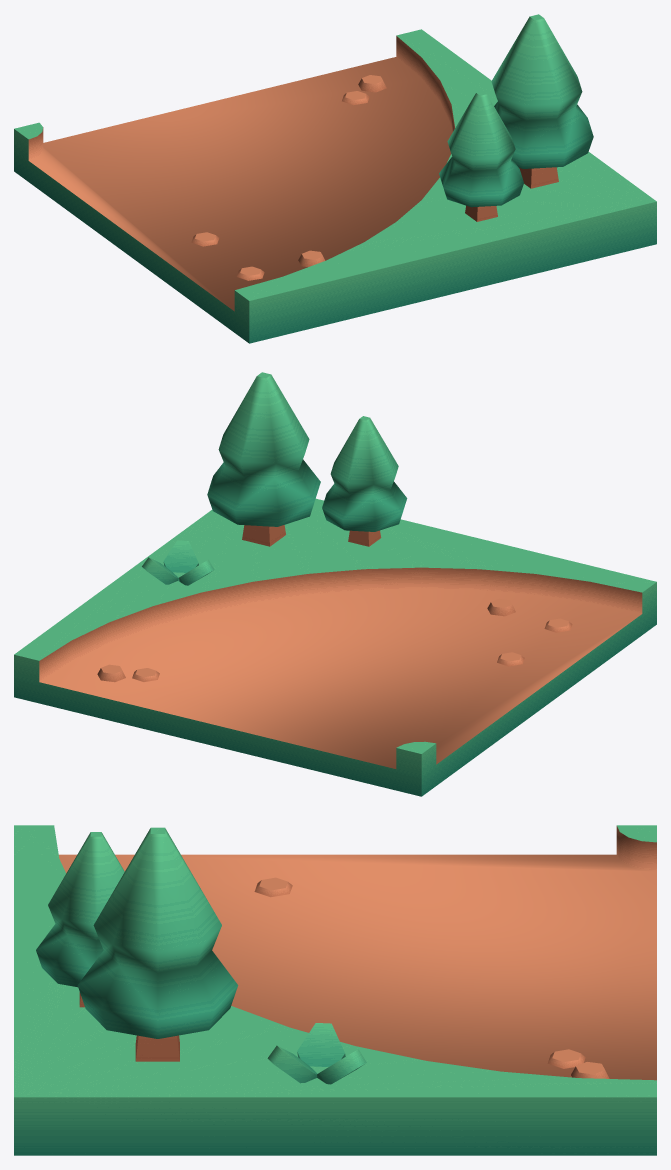
File: tile-wide-corner.glb
3 renders of one model, top to bottom at view 1: azimuth 30°, elevation 25°; view 2: azimuth 150°, elevation 25°; view 3: azimuth 270°, elevation 25°, orthographic. The views are drawn at different scales.
Parts seen in each view (by area): view 1: tile-wide-corner; view 2: tile-wide-corner; view 3: tile-wide-corner.
Part boxes in pixels (x1,y1,x2,y2): tile-wide-corner: (14, 14, 656, 343); tile-wide-corner: (14, 372, 656, 796); tile-wide-corner: (14, 825, 656, 1155).
Bounding box in the file's own units: 2 × 0.96 × 2.
1 material, 1 textured.
